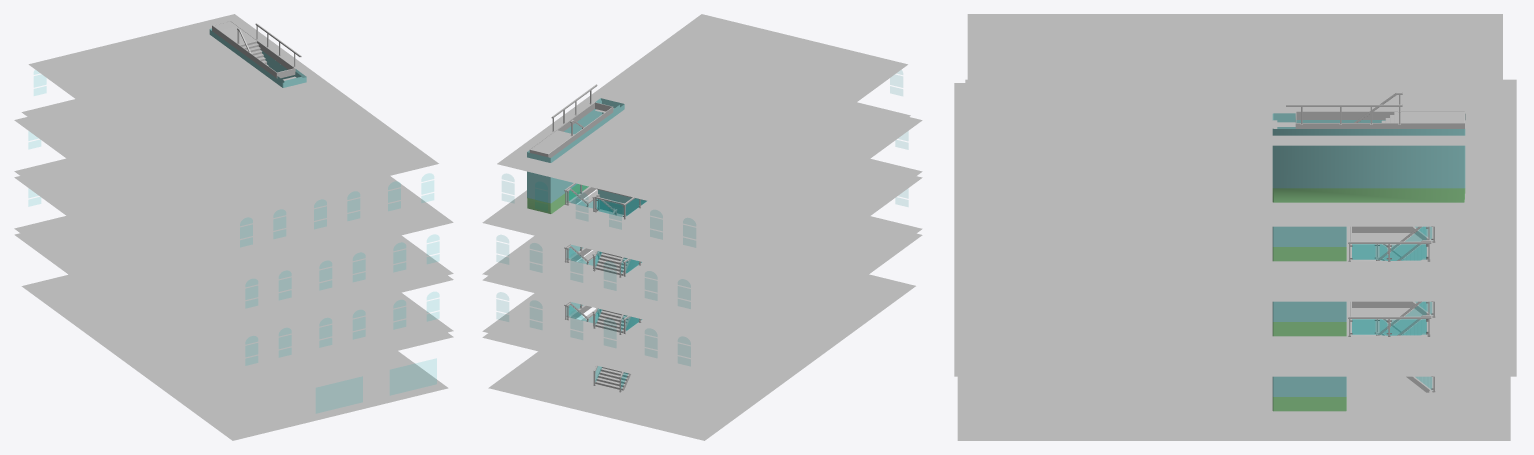
The model's file is SM_Building16_V3_Interior.fbx.
3 views of the same model, side by side, from view 1: azimuth 30°, elevation 25°; view 2: azimuth 150°, elevation 25°; view 3: azimuth 270°, elevation 25° (orthographic). The views are drawn at different scales.
Parts seen in each view (by area): view 1: SM_Building16_V3_Interior; view 2: SM_Building16_V3_Interior; view 3: SM_Building16_V3_Interior.
Part boxes in pixels (x1,y1,x2,y2): SM_Building16_V3_Interior: [14, 14, 453, 440]; SM_Building16_V3_Interior: [482, 14, 922, 440]; SM_Building16_V3_Interior: [954, 14, 1516, 440].
Bounding box in the file's own units: 1665 × 1846 × 2785.
